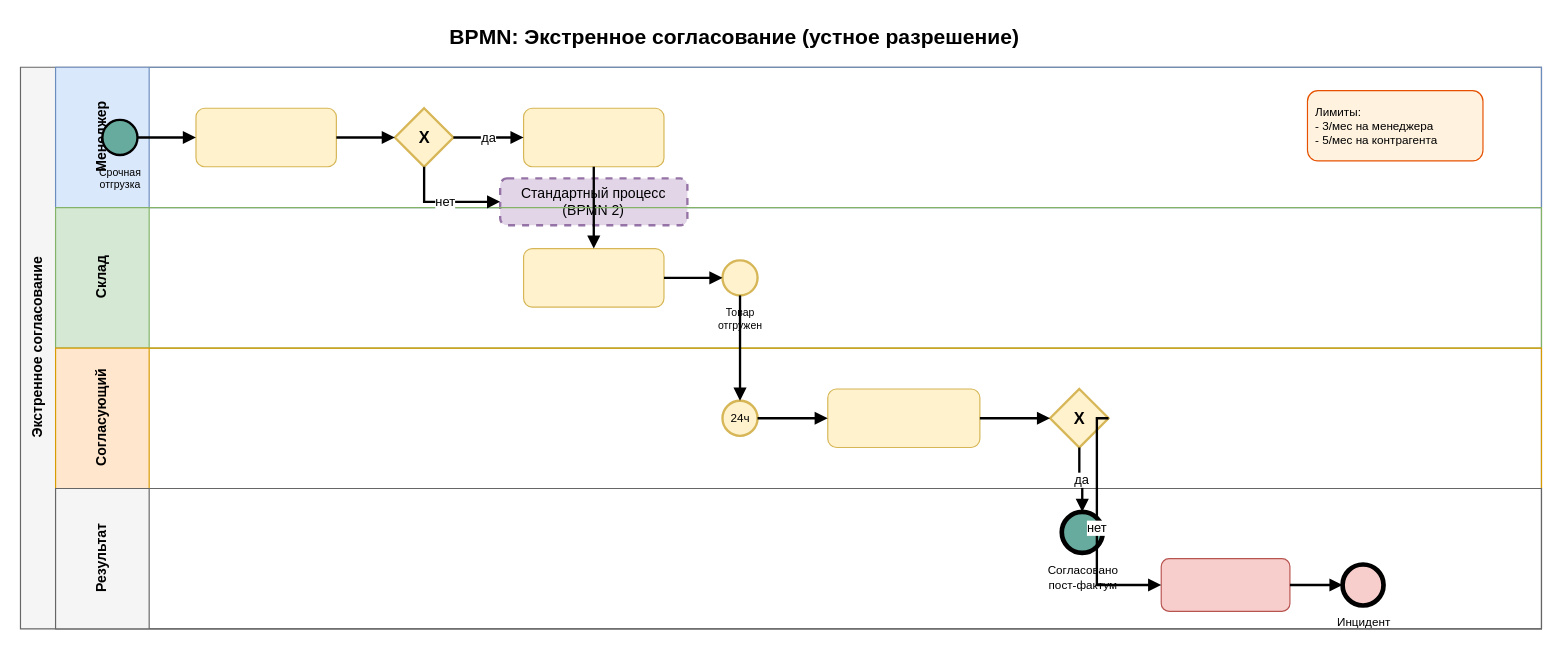
This 1562x651 diagram has some shape labels left out. The centre of each missing label's shape, as x and y in pixels:
Запрос устного разрешения: the point at 265,137
Отгрузка товара: the point at 593,277
Регистрация инцидента: the point at 1225,584
Согласование пост-фактум: the point at 903,418
Фиксация в 1С (комментарий): the point at 593,137
